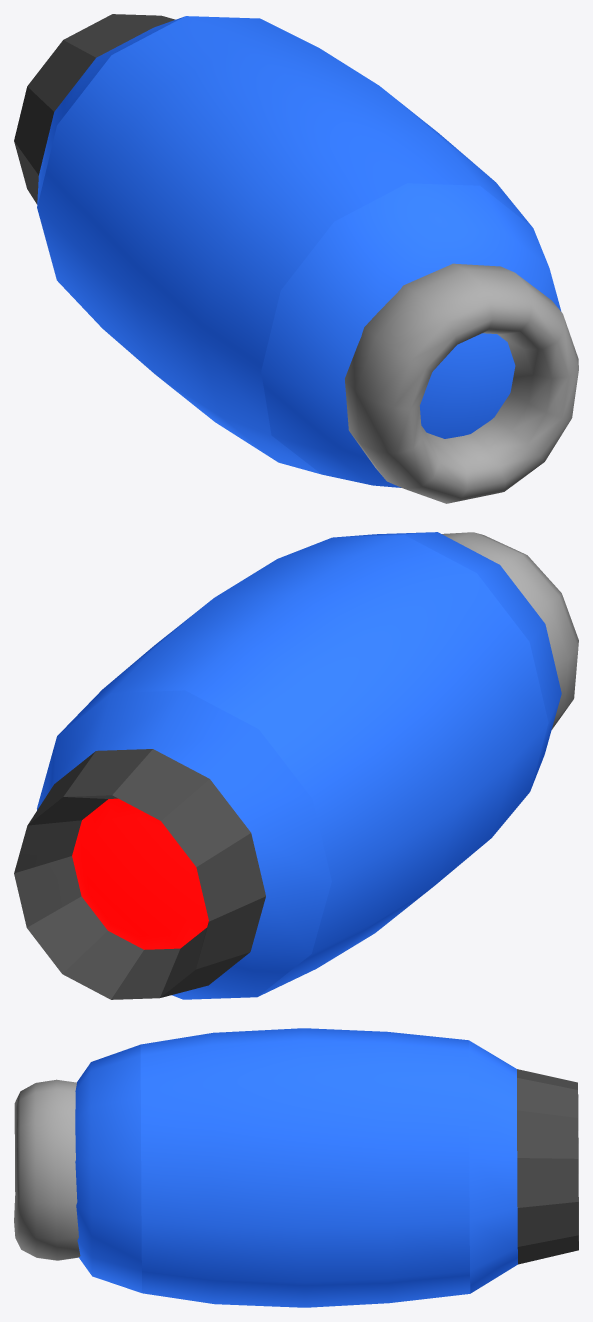
The model's file is 5b59c8ce-5505-4fec-a833-0097271be0f5.glb.
3 renders of one model, top to bottom at view 1: azimuth 30°, elevation 25°; view 2: azimuth 150°, elevation 25°; view 3: azimuth 270°, elevation 25°, orthographic. The views are drawn at different scales.
Parts seen in each view (by area): view 1: arms_07 - Default_0, arms_08 - Default_0, arms_03 - Default_0; view 2: arms_07 - Default_0, arms_03 - Default_0, arms_Material #446_0, arms_08 - Default_0; view 3: arms_07 - Default_0, arms_03 - Default_0, arms_08 - Default_0.
Boxes of the visible parts, x1,y1,x2,y2 form: arms_07 - Default_0: (37, 16, 561, 487); arms_08 - Default_0: (345, 263, 578, 503); arms_03 - Default_0: (14, 14, 175, 204); arms_07 - Default_0: (37, 532, 561, 999); arms_03 - Default_0: (14, 749, 265, 999); arms_Material #446_0: (72, 798, 208, 949); arms_08 - Default_0: (442, 532, 578, 729); arms_07 - Default_0: (75, 1028, 517, 1307); arms_03 - Default_0: (517, 1069, 578, 1264); arms_08 - Default_0: (14, 1079, 80, 1260).
Bounding box in the file's own units: 0.2013 × 0.2013 × 0.405.
